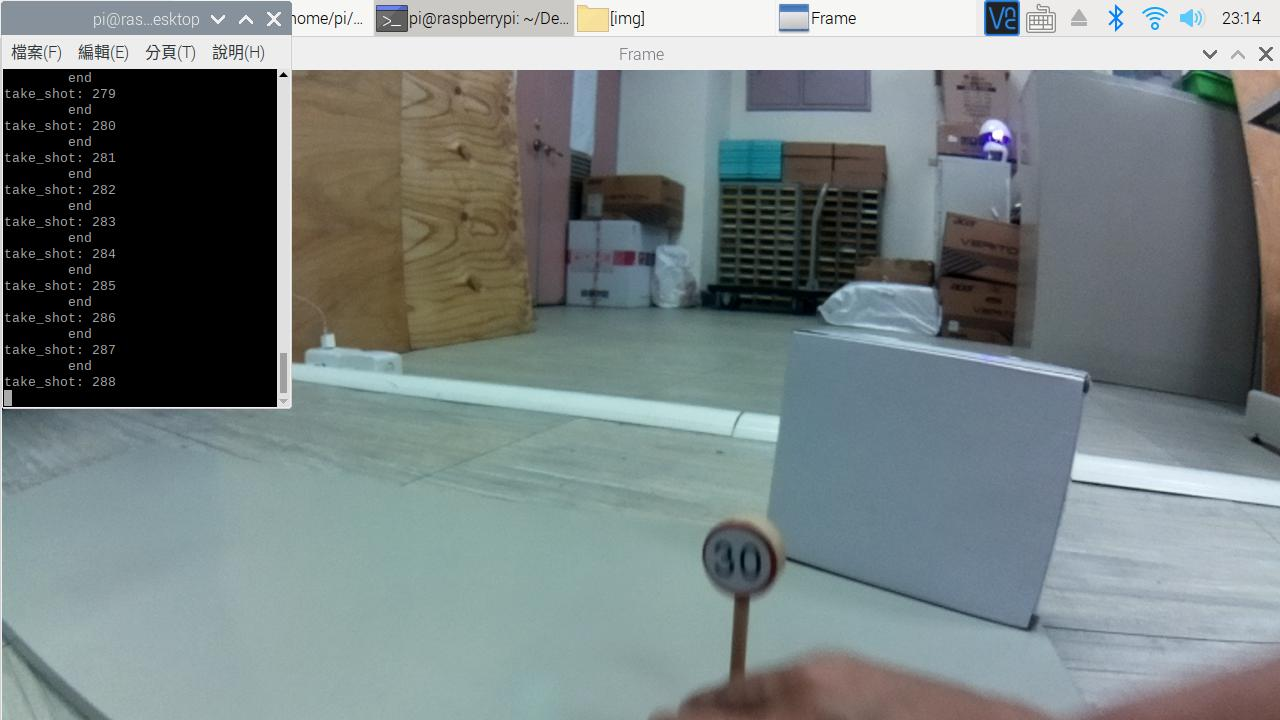Speed30: (669, 511, 821, 614)
